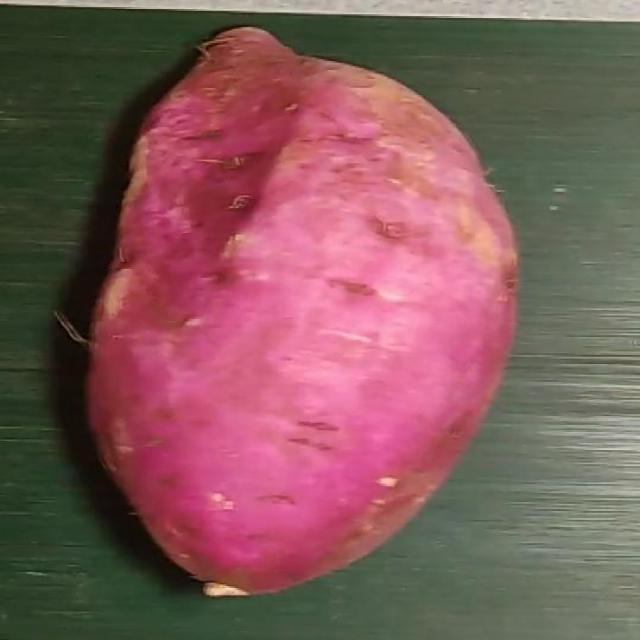Sweet Potato: (84, 28, 513, 599)
